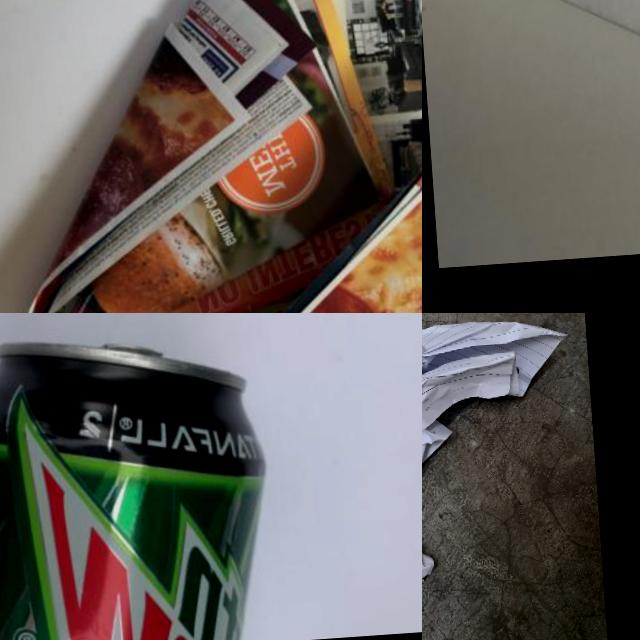lata: (0, 321, 287, 640)
papel: (0, 0, 422, 313), (467, 0, 640, 205), (422, 313, 580, 515)
